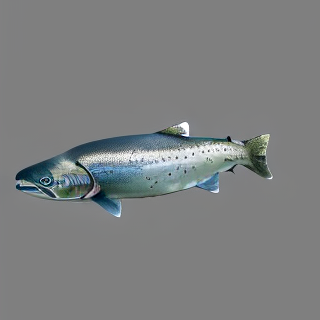Chinook salmon: (12, 120, 276, 219)
